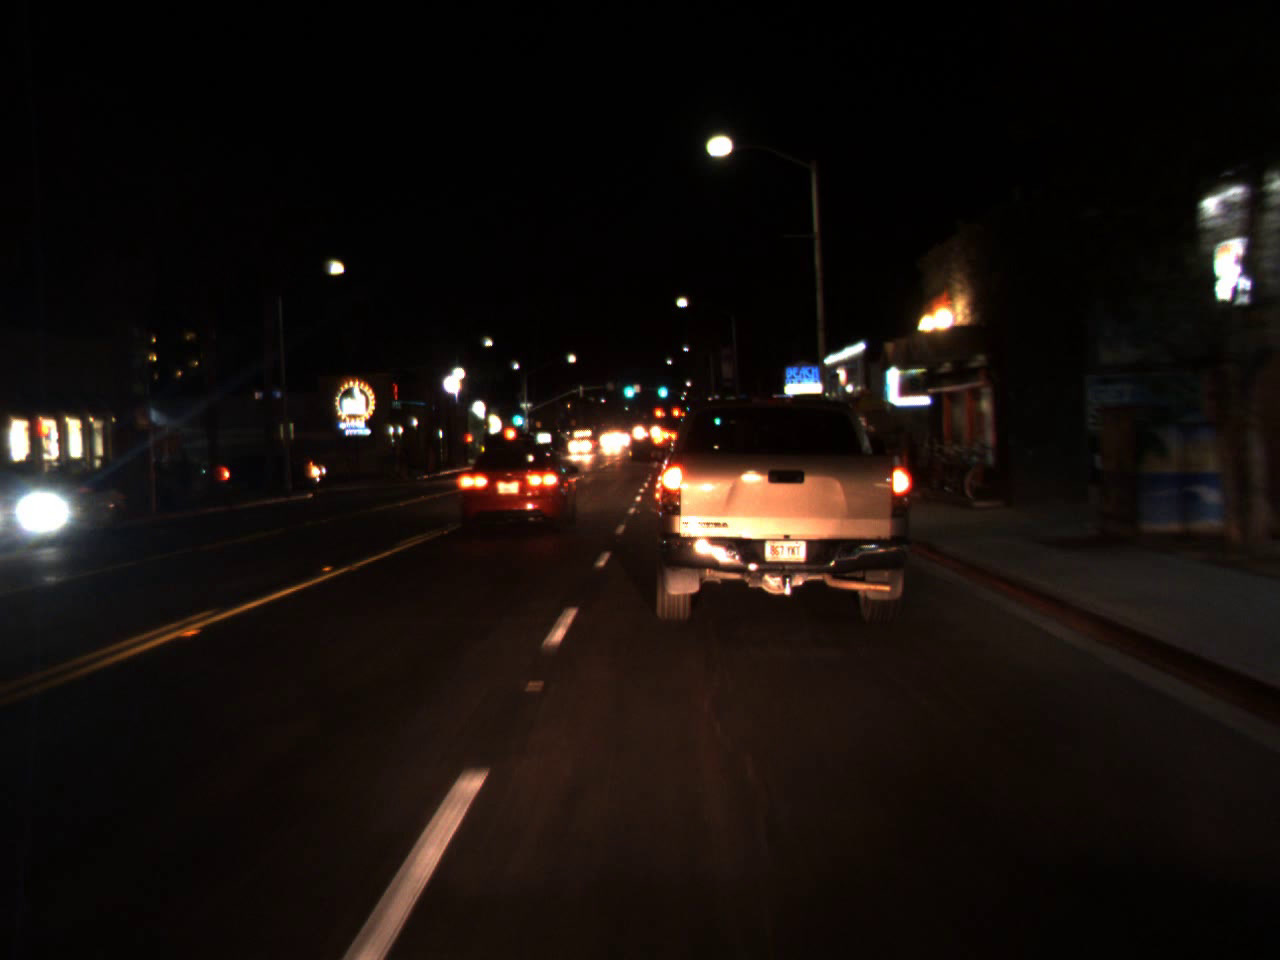go: (619, 372, 637, 402), (653, 374, 669, 401), (510, 404, 524, 428)
